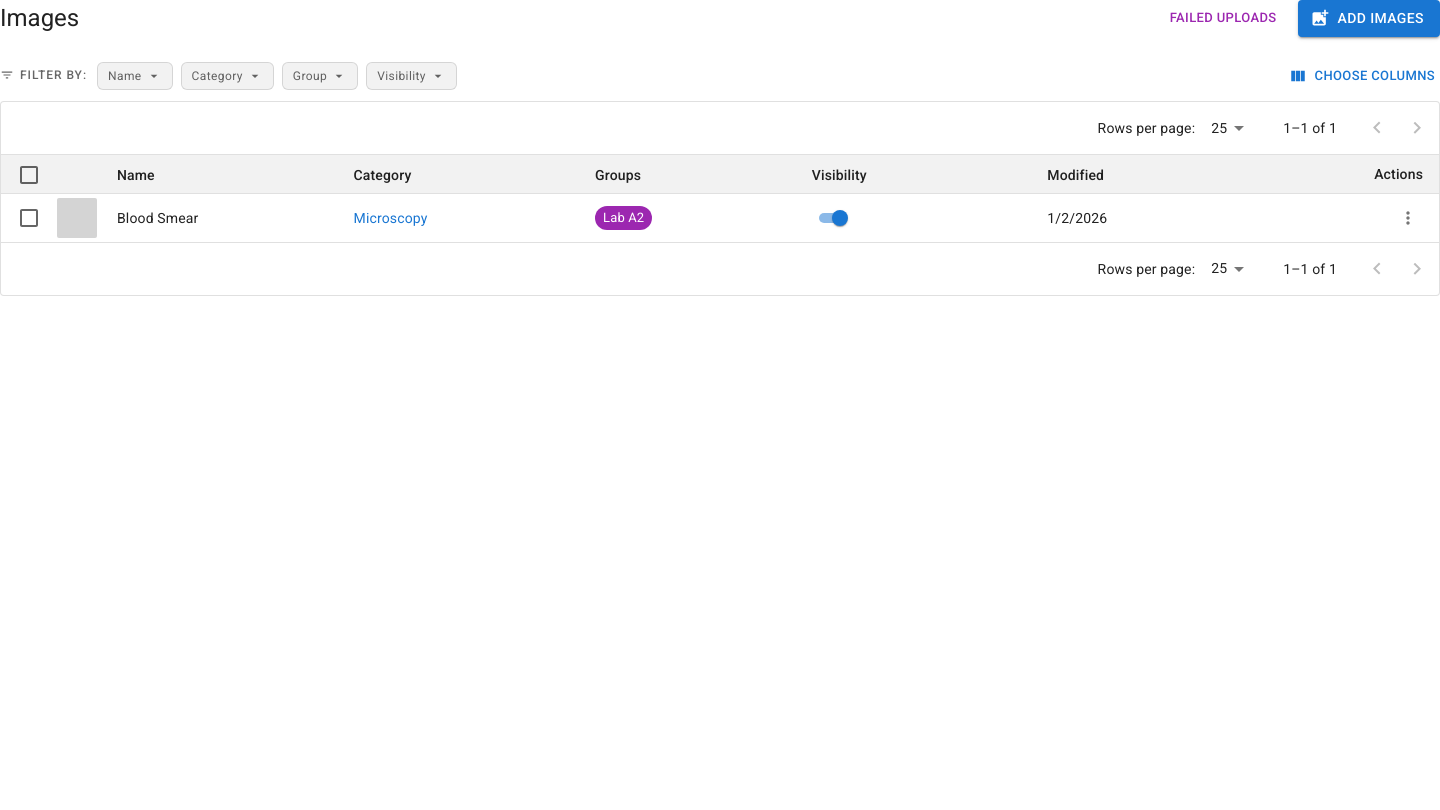
Scenario: ManagePage › opens the failed uploads list from the manage header
The width and height of the screenshot is (1440, 810).
Check: the text "Blood Smear" is shown, box [101, 193, 338, 242]
Click the button "Failed uploads" at (1223, 18), box [1165, 3, 1282, 34]
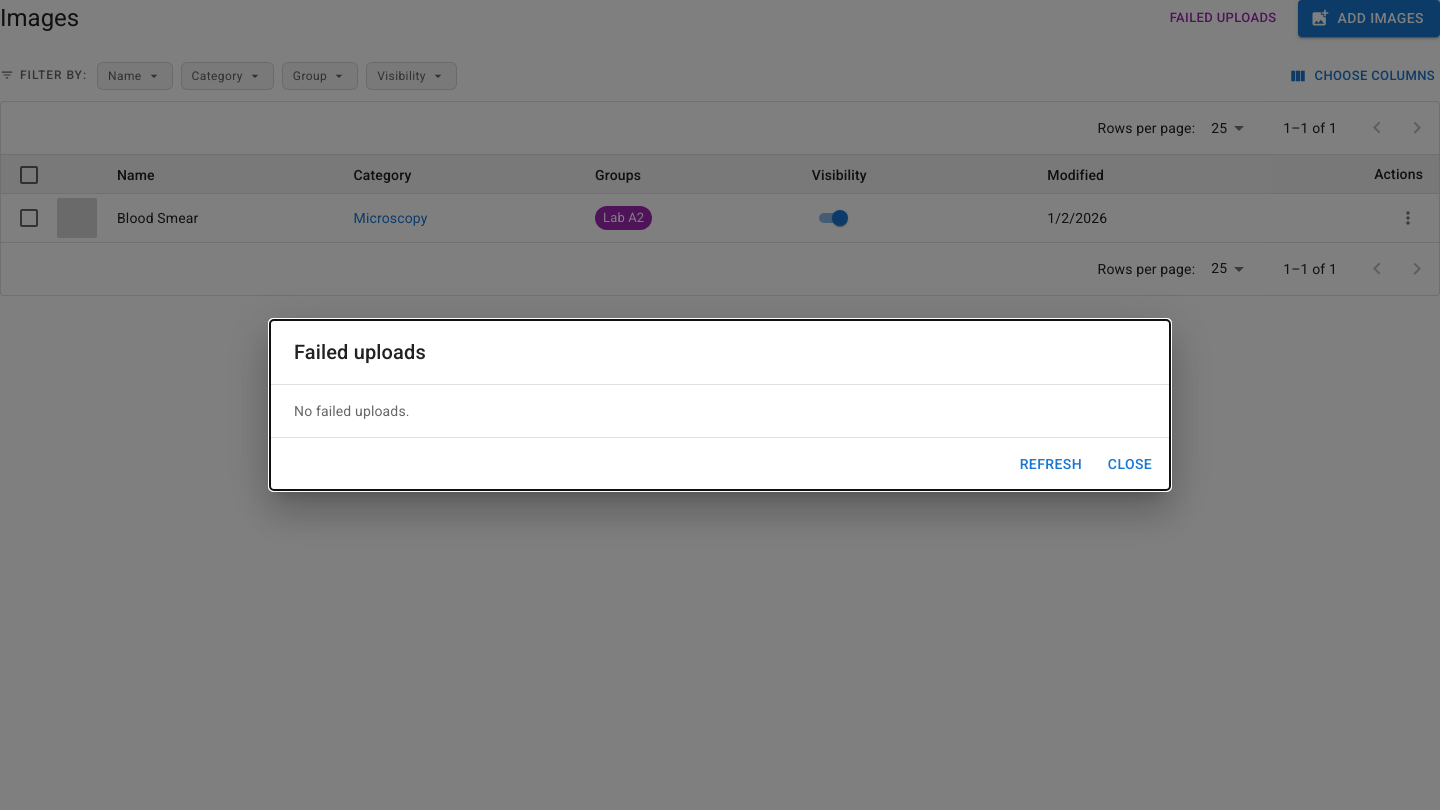
Check: the text "No failed uploads." is shown, box [294, 403, 410, 419]
